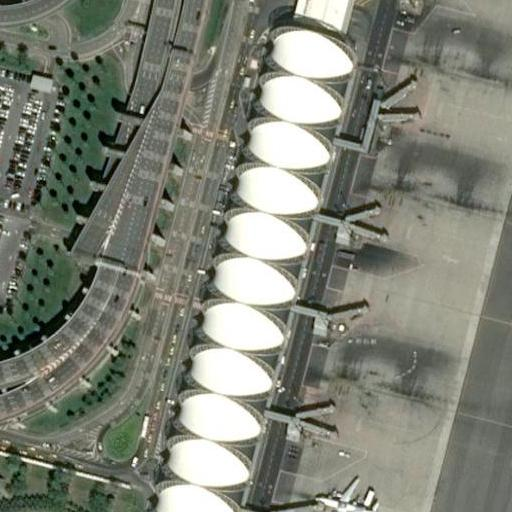Aircraft: (309, 470, 381, 512), (504, 0, 512, 8)
